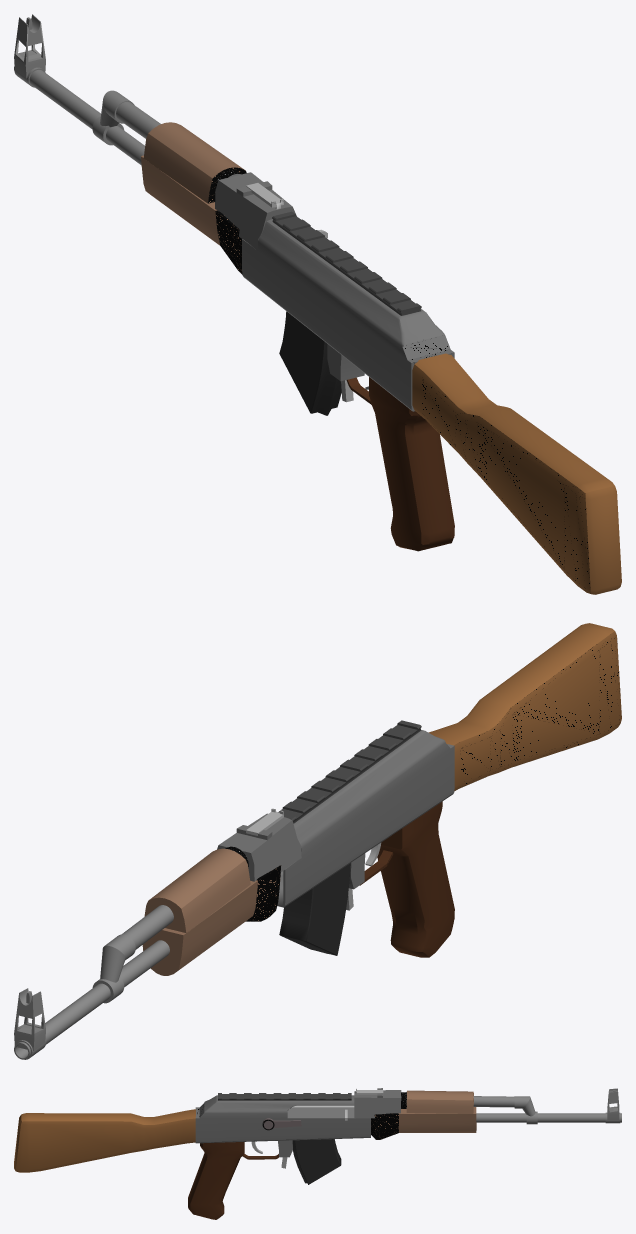
The model's file is vpo136.obj.
3 views of the same model, one above another, from view 1: azimuth 30°, elevation 25°; view 2: azimuth 150°, elevation 25°; view 3: azimuth 270°, elevation 25° (orthographic). The views are drawn at different scales.
Visible parts, largest first — view 1: Body, Magazine; view 2: Body, Magazine; view 3: Body, Magazine, Bolt.
Boxes of the visible parts, box(x1,y1,x2,y2) form: Body: box(14, 14, 621, 594); Magazine: box(279, 311, 341, 415); Body: box(14, 623, 621, 1059); Magazine: box(279, 863, 350, 955); Body: box(14, 1088, 621, 1219); Magazine: box(292, 1139, 341, 1184); Bolt: box(287, 1088, 383, 1120).
Bounding box in the file's own units: 0.0531 × 0.2013 × 0.88.
1 material, 1 textured.
